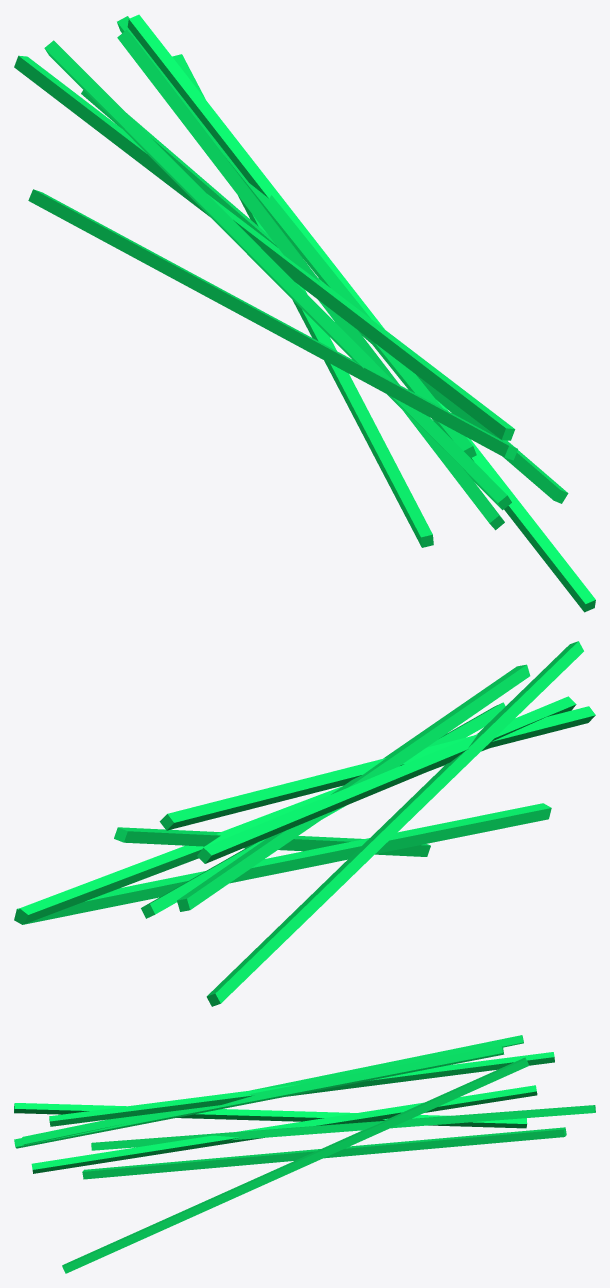
File: firstbranch.dae
3 renders of one model, top to bottom at view 1: azimuth 30°, elevation 25°; view 2: azimuth 150°, elevation 25°; view 3: azimuth 270°, elevation 25°, orthographic. The views are drawn at different scales.
Visible parts, largest first — view 1: Cube.065, Cube.070, Cube.064, Cube.054, Cube.072, Cube.049, Cube.061, Cube.062; view 2: Cube.064, Cube.049, Cube.070, Cube.065, Cube.072, Cube.061, Cube.054, Cube.062; view 3: Cube.054, Cube.049, Cube.062, Cube.065, Cube.072, Cube.061, Cube.064, Cube.070.
Boxes of the visible parts, <box> form: Cube.065: <box>14,55,515,440</box>; Cube.070: <box>44,40,511,510</box>; Cube.064: <box>28,189,517,460</box>; Cube.054: <box>127,14,595,612</box>; Cube.072: <box>117,30,504,530</box>; Cube.049: <box>172,54,433,547</box>; Cube.061: <box>117,16,476,457</box>; Cube.062: <box>81,90,568,503</box>; Cube.064: <box>206,641,583,1006</box>; Cube.049: <box>14,803,551,924</box>; Cube.070: <box>197,696,576,863</box>; Cube.065: <box>177,664,530,911</box>; Cube.072: <box>159,706,595,830</box>; Cube.061: <box>15,748,488,924</box>; Cube.054: <box>114,827,430,856</box>; Cube.062: <box>141,702,505,918</box>; Cube.054: <box>62,1057,528,1273</box>; Cube.049: <box>82,1127,566,1179</box>; Cube.062: <box>31,1085,537,1173</box>; Cube.065: <box>49,1052,554,1126</box>; Cube.072: <box>14,1045,504,1148</box>; Cube.061: <box>91,1105,595,1150</box>; Cube.064: <box>14,1103,527,1128</box>; Cube.070: <box>22,1035,523,1145</box>.
Bounding box in the file's own units: 11.36 × 51.44 × 19.52.
